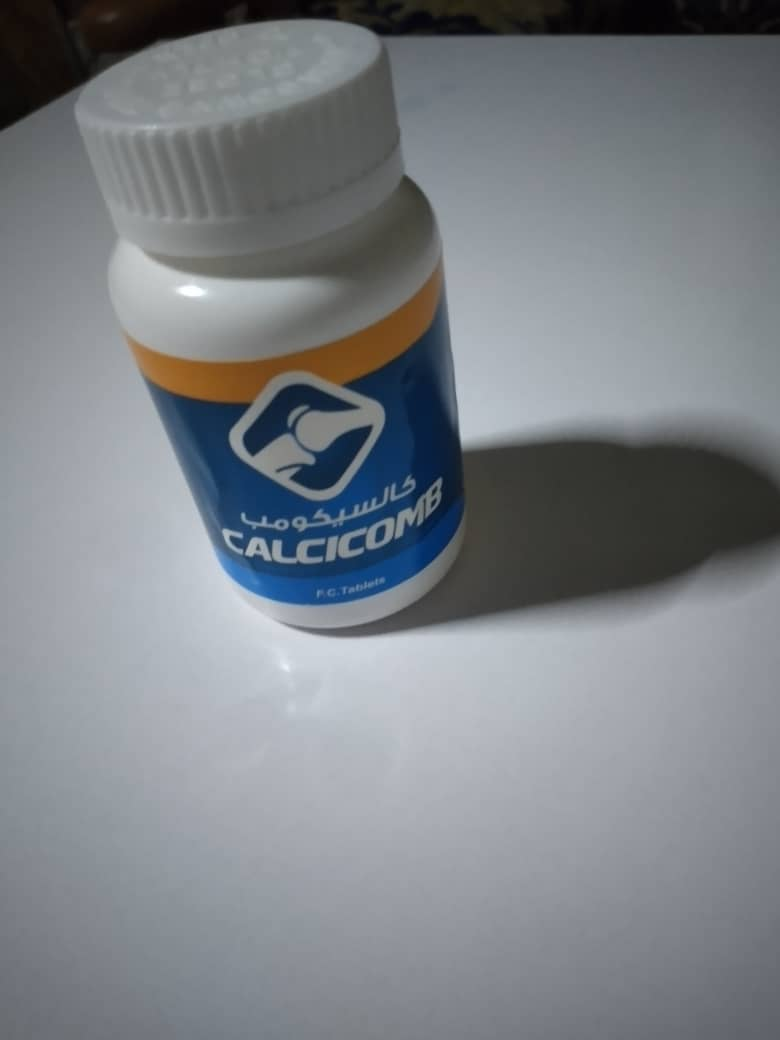Medicine: (43, 10, 477, 683)
